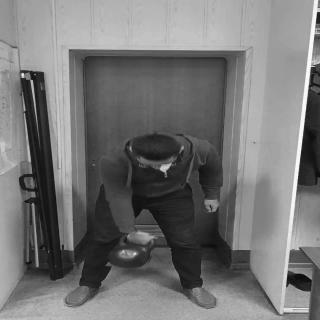kettlebell: (109, 234, 157, 271)
